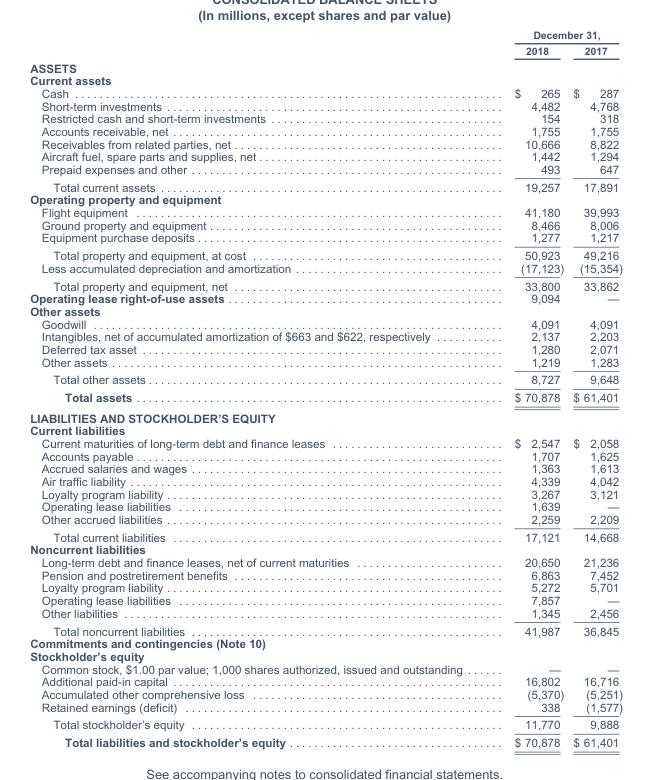table: (29, 28, 622, 748)
table column: (29, 28, 487, 748), (487, 28, 567, 748), (567, 28, 622, 748)
table column header: (29, 28, 622, 58)
table projected row header: (29, 407, 622, 423), (29, 58, 622, 73), (29, 73, 622, 86), (29, 192, 622, 205), (29, 304, 622, 317), (29, 423, 622, 436), (29, 542, 622, 555), (29, 636, 622, 649), (29, 649, 622, 662)
table row: (29, 388, 622, 407), (29, 370, 622, 388), (29, 715, 622, 733), (29, 42, 622, 58), (29, 230, 622, 246), (29, 407, 622, 423), (29, 58, 622, 73), (29, 162, 622, 177), (29, 177, 622, 192), (29, 246, 622, 261), (29, 261, 622, 276), (29, 276, 622, 291), (29, 355, 622, 370), (29, 512, 622, 527), (29, 527, 622, 542), (29, 606, 622, 621), (29, 621, 622, 636), (29, 700, 622, 715), (29, 733, 622, 748), (29, 28, 622, 42), (29, 73, 622, 86), (29, 86, 622, 99), (29, 111, 622, 124), (29, 124, 622, 137), (29, 149, 622, 162), (29, 192, 622, 205), (29, 205, 622, 218), (29, 291, 622, 304), (29, 304, 622, 317), (29, 329, 622, 342), (29, 342, 622, 355), (29, 423, 622, 436), (29, 436, 622, 449), (29, 461, 622, 474), (29, 474, 622, 487), (29, 499, 622, 512), (29, 542, 622, 555), (29, 555, 622, 568), (29, 580, 622, 593), (29, 593, 622, 606), (29, 636, 622, 649), (29, 649, 622, 662), (29, 674, 622, 687), (29, 687, 622, 700), (29, 99, 622, 111), (29, 137, 622, 149), (29, 218, 622, 230), (29, 317, 622, 329), (29, 449, 622, 461), (29, 487, 622, 499), (29, 568, 622, 580), (29, 662, 622, 674)
table spanning cell: (487, 28, 622, 42)
